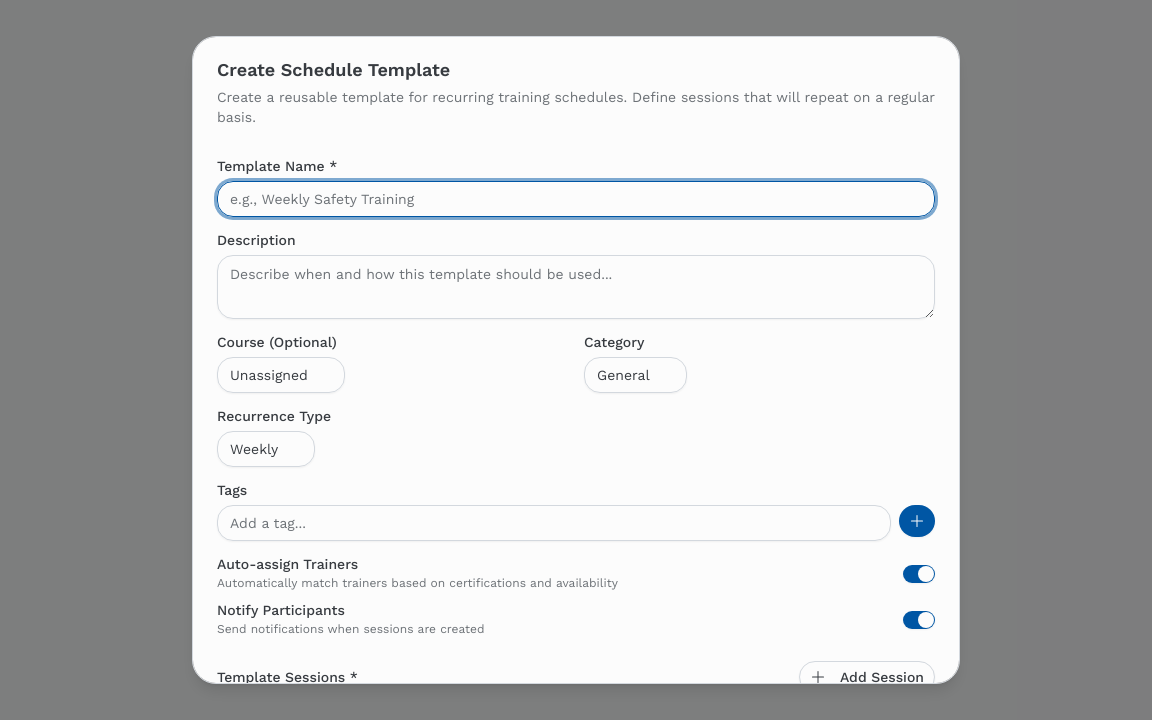
Test: ScheduleTemplateDialog › shows a validation error when custom cycle days are invalid
Type "Broken Rotation" into the field labelled "Template Name *".
click(576, 199); type("Broken Rotation")  # box [217,181,935,217]
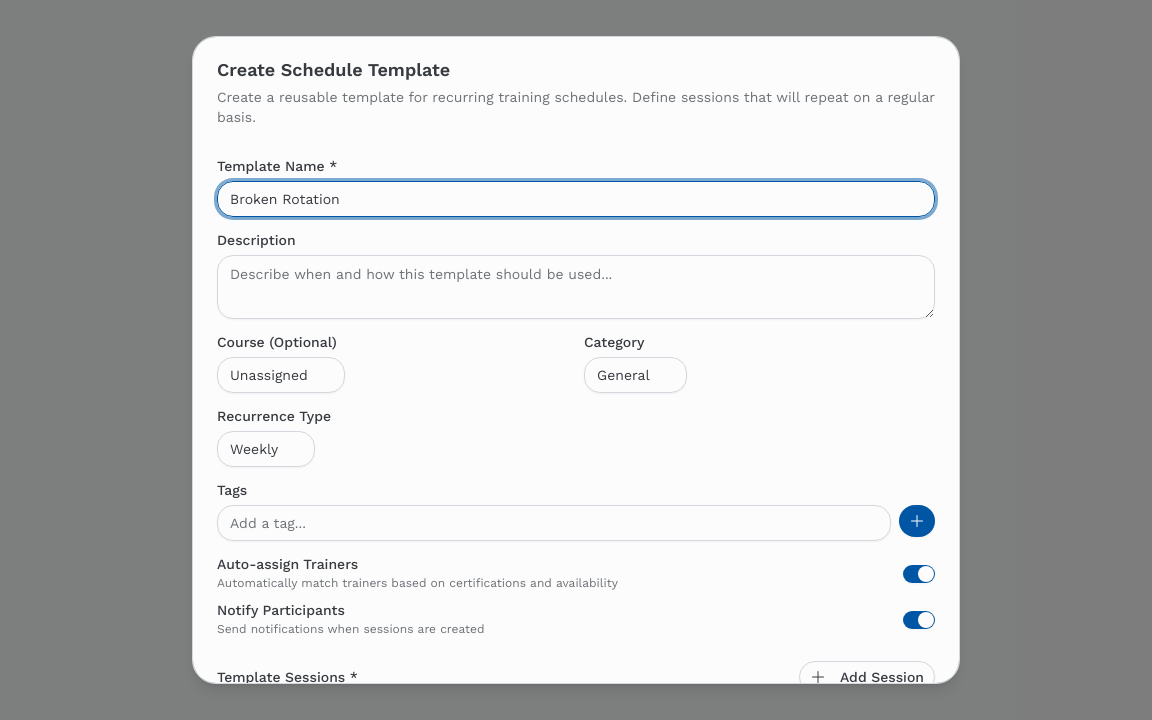
Click the dropdown named "recurrence type".
click(266, 449)  # box [217,431,315,467]
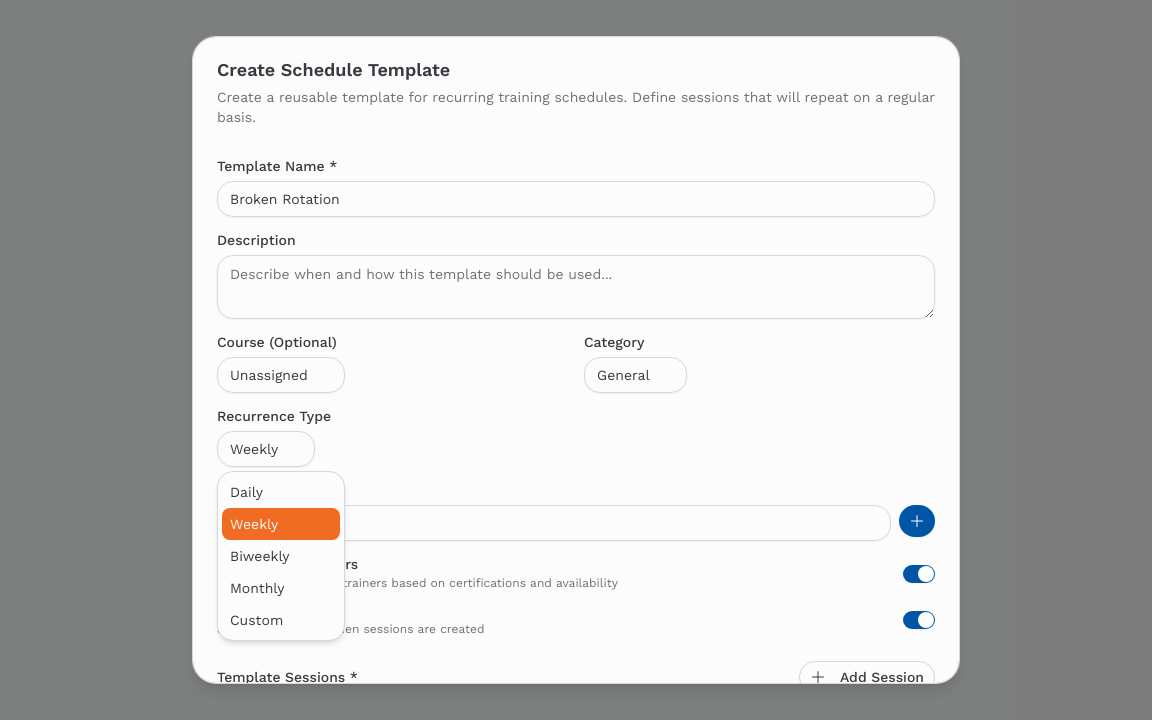
Click the option "Custom".
click(257, 620)  # box [230,612,283,628]
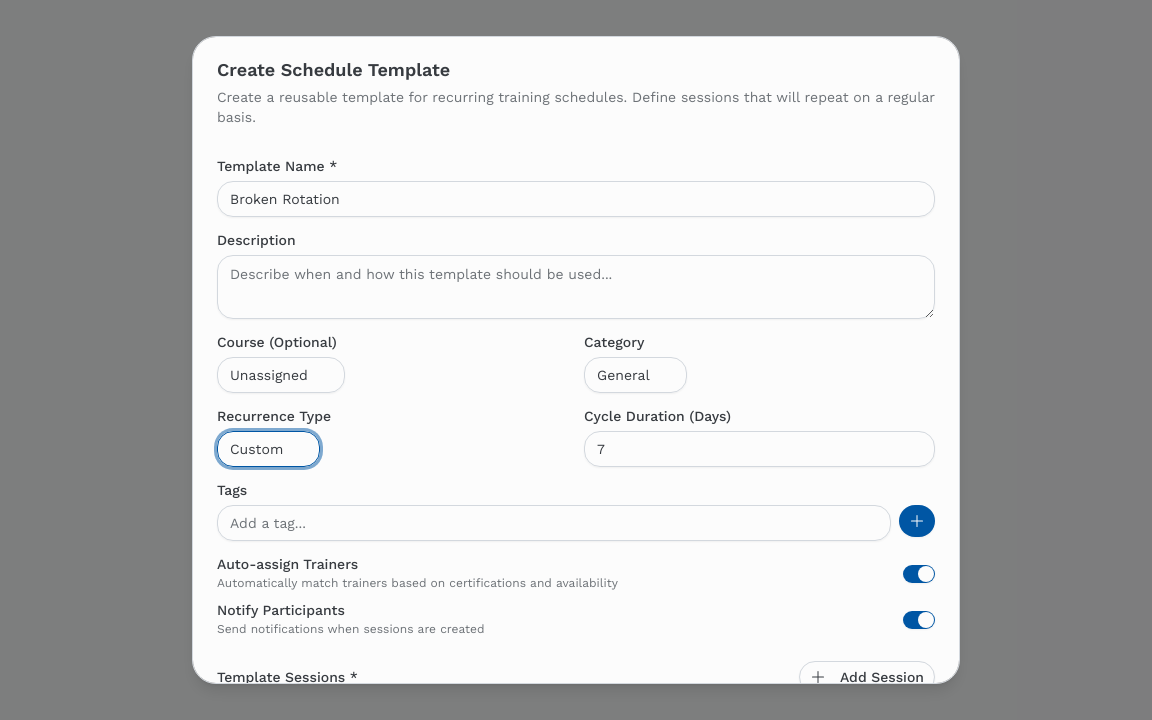
Replace the text in the number field labelled "Cycle Duration (Days)" with "0" at coordinates (760, 449), box [584,431,935,467]
(page scrolled)
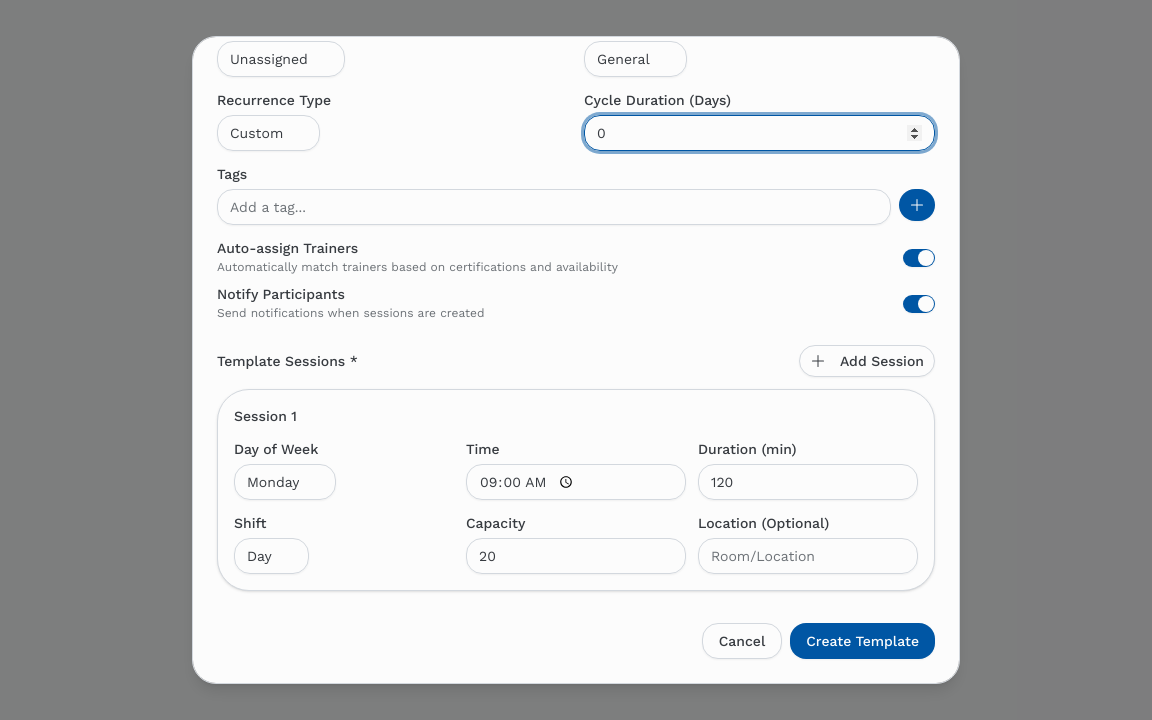
Click the button "Create Template".
click(863, 641)  # box [790,623,935,659]
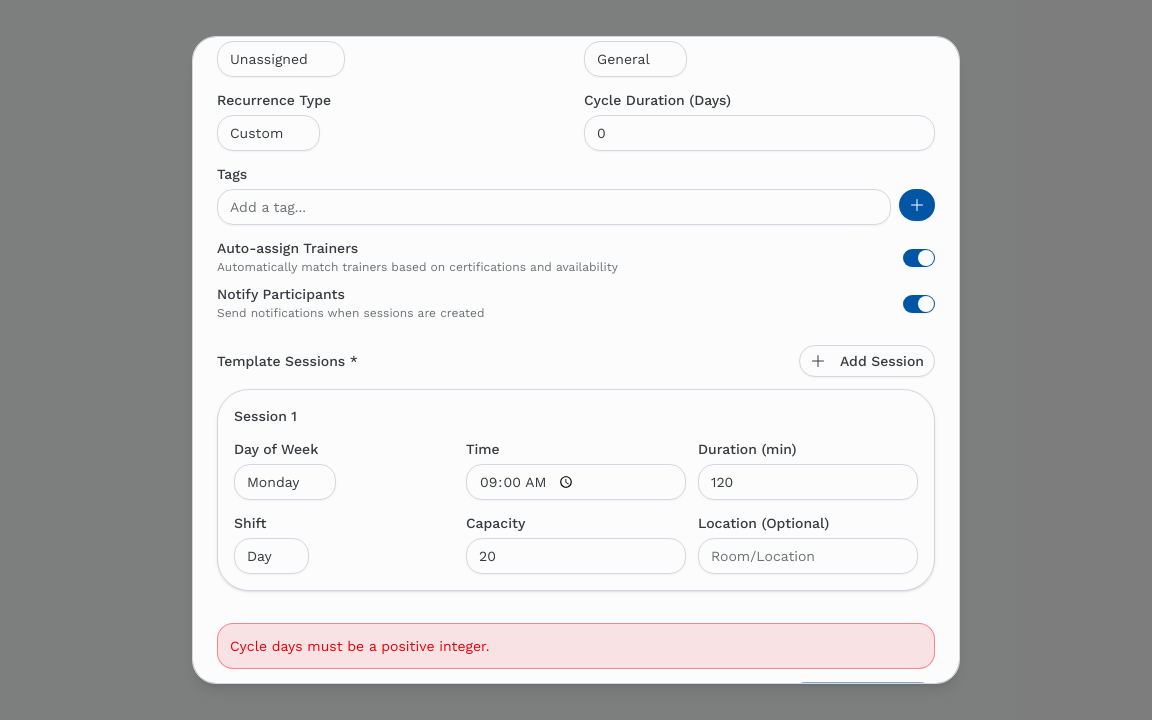
Now the text "Cycle days must be a positive integer." is shown, box [217,623,935,669]
